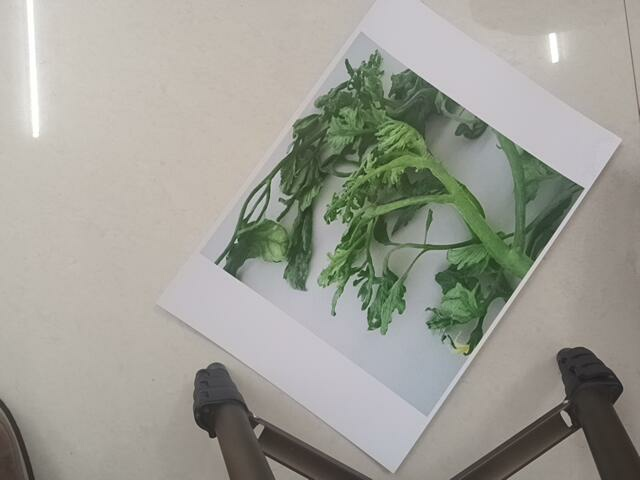Tomamto_Mosaic_virus: (207, 46, 531, 355)
